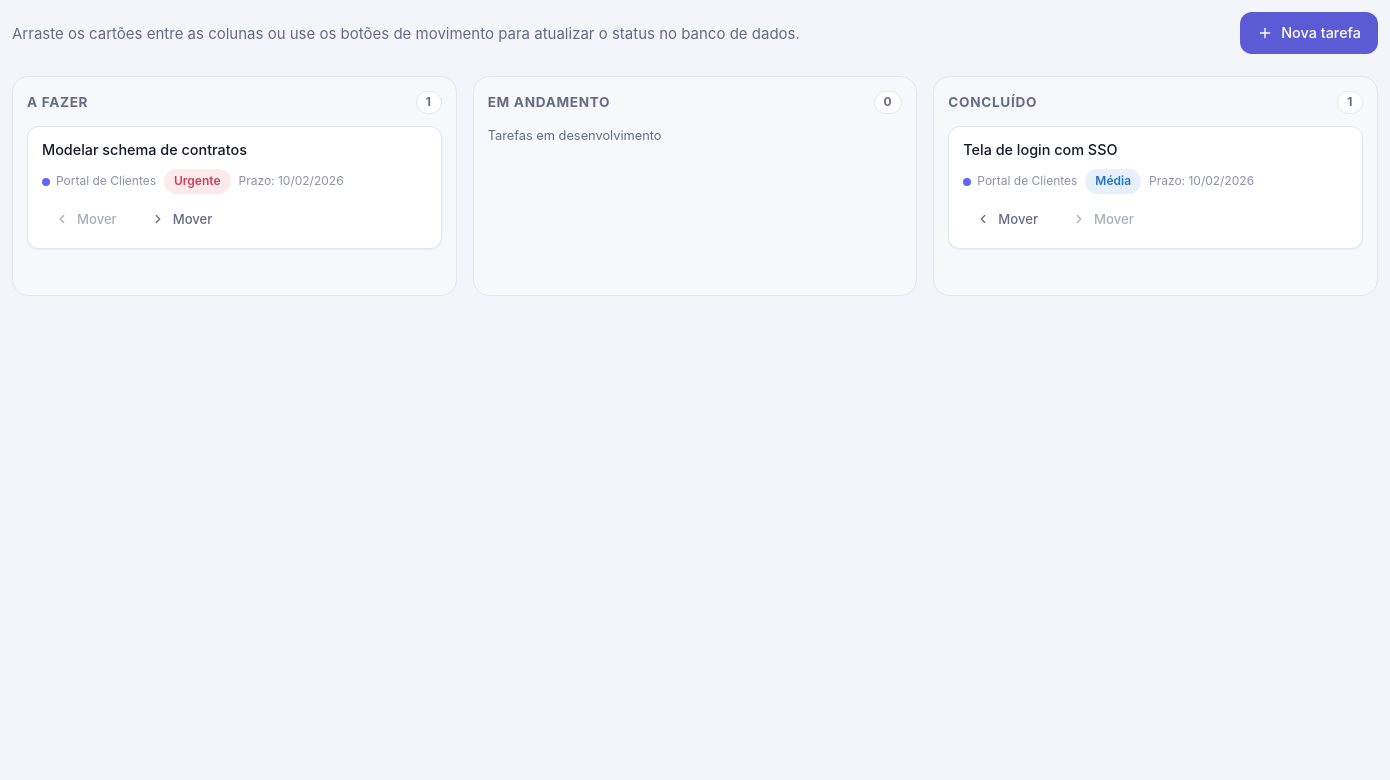
Scenario: KanbanPage › avisa quando a movimentação falha
Expected: the text "Modelar schema de contratos" is shown, [42,141,247,158]
Step 1. Click the button named "Mover \"Modelar schema de contratos\" para a próxima coluna" → {"x": 182, "y": 219}, box [138,202,225,236]
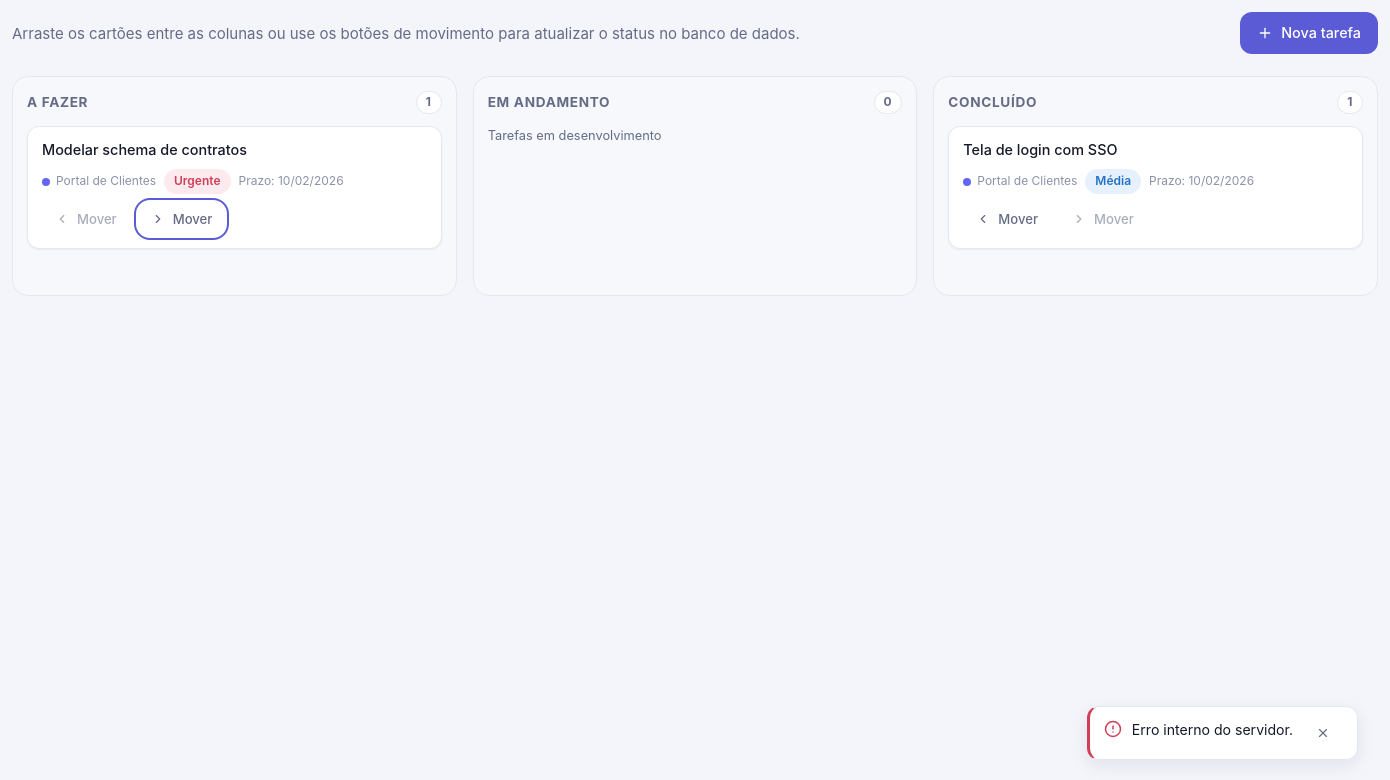
Now the text "Erro interno do servidor." is shown, box [1132,719,1293,741]
